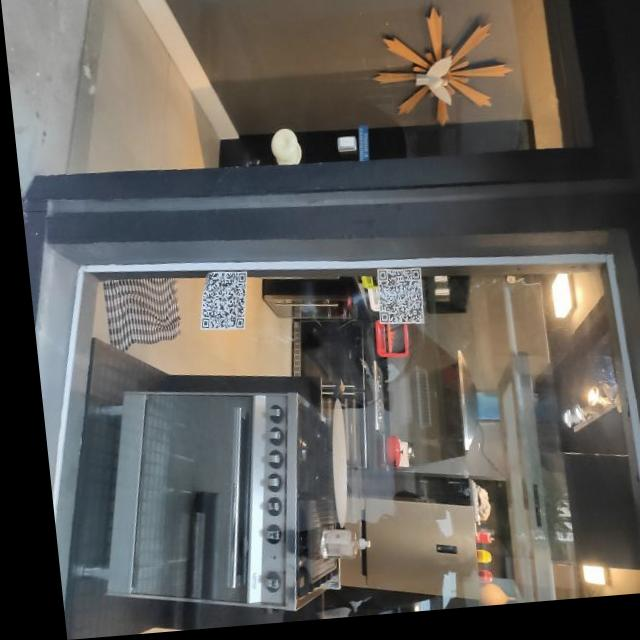qrcode: (190, 275, 243, 335), (369, 275, 417, 333)
